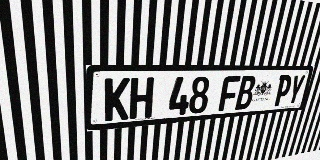4: (168, 77, 192, 116)
8: (188, 76, 211, 114)
B: (235, 75, 257, 110)
F: (218, 76, 241, 111)
H: (129, 77, 154, 119)
K: (104, 78, 130, 121)
P: (272, 75, 293, 107)
Y: (286, 75, 306, 105)
